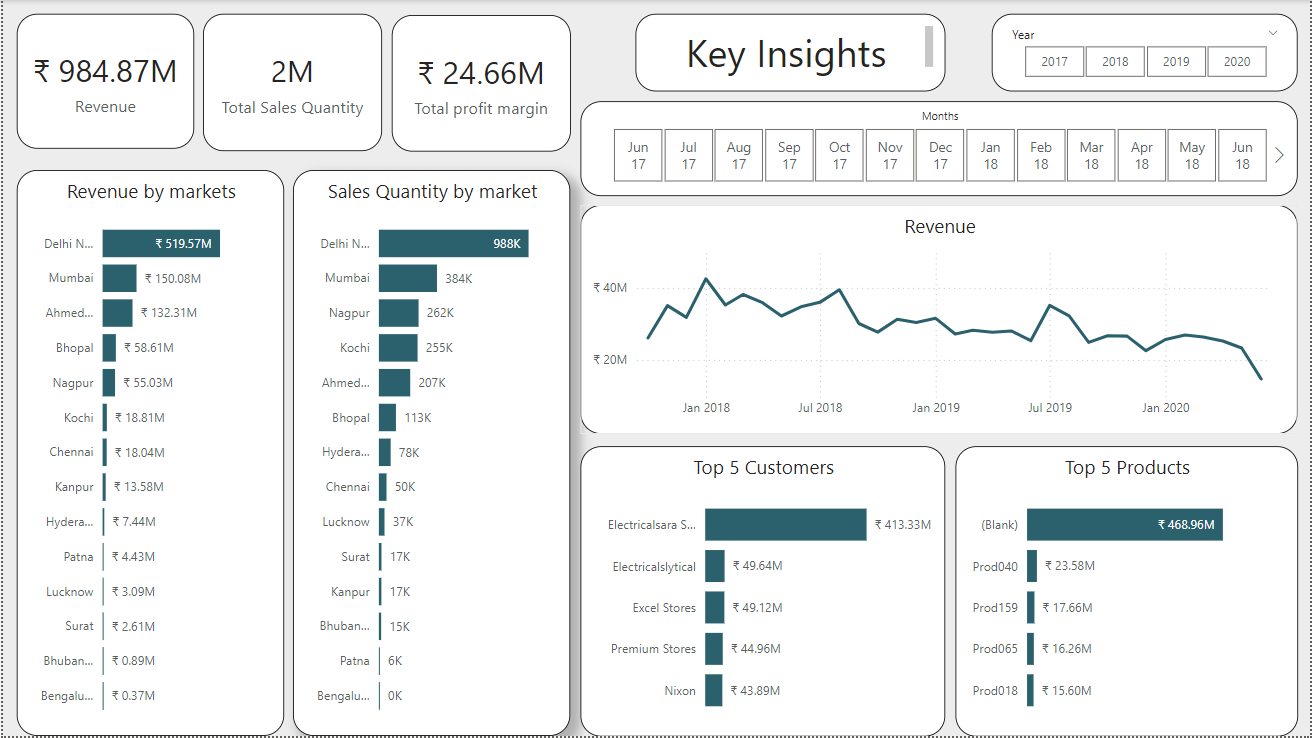

Layout of this report page (visuals, bound fields, positions):
{"tool":"powerbi","page":{"name":"Key Insights","canvas":[1280,720],"ordinal":0},"visuals":[{"type":"card","fields":{"Values":["New measures.Revenue"]},"box":[13.5,13.5,173.6,132.1],"z":0},{"type":"barChart","title":"Revenue by markets","fields":{"Category":["Query3.markets_name"],"Y":["New measures.Revenue"]},"box":[13.5,166.3,261.7,553.9],"z":1000},{"type":"barChart","title":"Sales Quantity by market","fields":{"Category":["Query3.markets_name"],"Y":["Sum(Transactions.sales_qty)"]},"box":[283.7,166.3,271.5,553.9],"z":2000},{"type":"barChart","title":"Top 5 Customers","fields":{"Category":["Query5.custmer_name"],"Y":["New measures.Revenue"]},"box":[564.9,436.6,357.1,283.7],"z":3000},{"type":"lineChart","title":"Revenue","fields":{"Y":["New measures.Revenue"],"Category":["Query4.cy_date.Variation.Date Hierarchy.Year","Query4.cy_date.Variation.Date Hierarchy.Quarter","Query4.cy_date.Variation.Date Hierarchy.Month","Query4.cy_date.Variation.Date Hierarchy.Day"]},"box":[564.9,200.5,701.9,223.8],"z":4000},{"type":"slicer","title":"Months","fields":{"Values":["Date.cy_date"]},"box":[564.9,99,701.9,92.9],"z":5000},{"type":"barChart","title":"Top 5 Products","fields":{"Category":["Query2.product_code"],"Y":["New measures.Revenue"]},"box":[931.8,436.6,335.1,283.7],"z":6000},{"type":"card","fields":{"Values":["Transactions.Total profit margi"]},"box":[380.3,14.7,174.9,133.3],"z":7000},{"type":"slicer","fields":{"Values":["Date.year"]},"box":[967.3,13.5,299.6,75.8],"z":8000},{"type":"card","fields":{"Values":["Transactions.Total Sales Quantity"]},"box":[195.7,13.5,174.9,134.5],"z":9000},{"type":"textbox","box":[618.8,13.5,303.3,75.8],"z":10000}]}

Visuals, with their boxes in screenshot pixels (x1, y1, x2, y2), scaled from the page's 1280x720 canvas onto the 1312x738 screenshot:
card - New measures.Revenue: box(14, 14, 192, 149)
"Revenue by markets" barChart: box(14, 170, 282, 737)
"Sales Quantity by market" barChart: box(291, 170, 569, 737)
"Top 5 Customers" barChart: box(579, 448, 945, 737)
"Revenue" lineChart: box(579, 206, 1298, 435)
"Months" slicer: box(579, 101, 1298, 197)
"Top 5 Products" barChart: box(955, 448, 1299, 737)
card - Transactions.Total profit margi: box(390, 15, 569, 152)
slicer - Date.year: box(991, 14, 1299, 92)
card - Transactions.Total Sales Quantity: box(201, 14, 380, 152)
textbox: box(634, 14, 945, 92)
